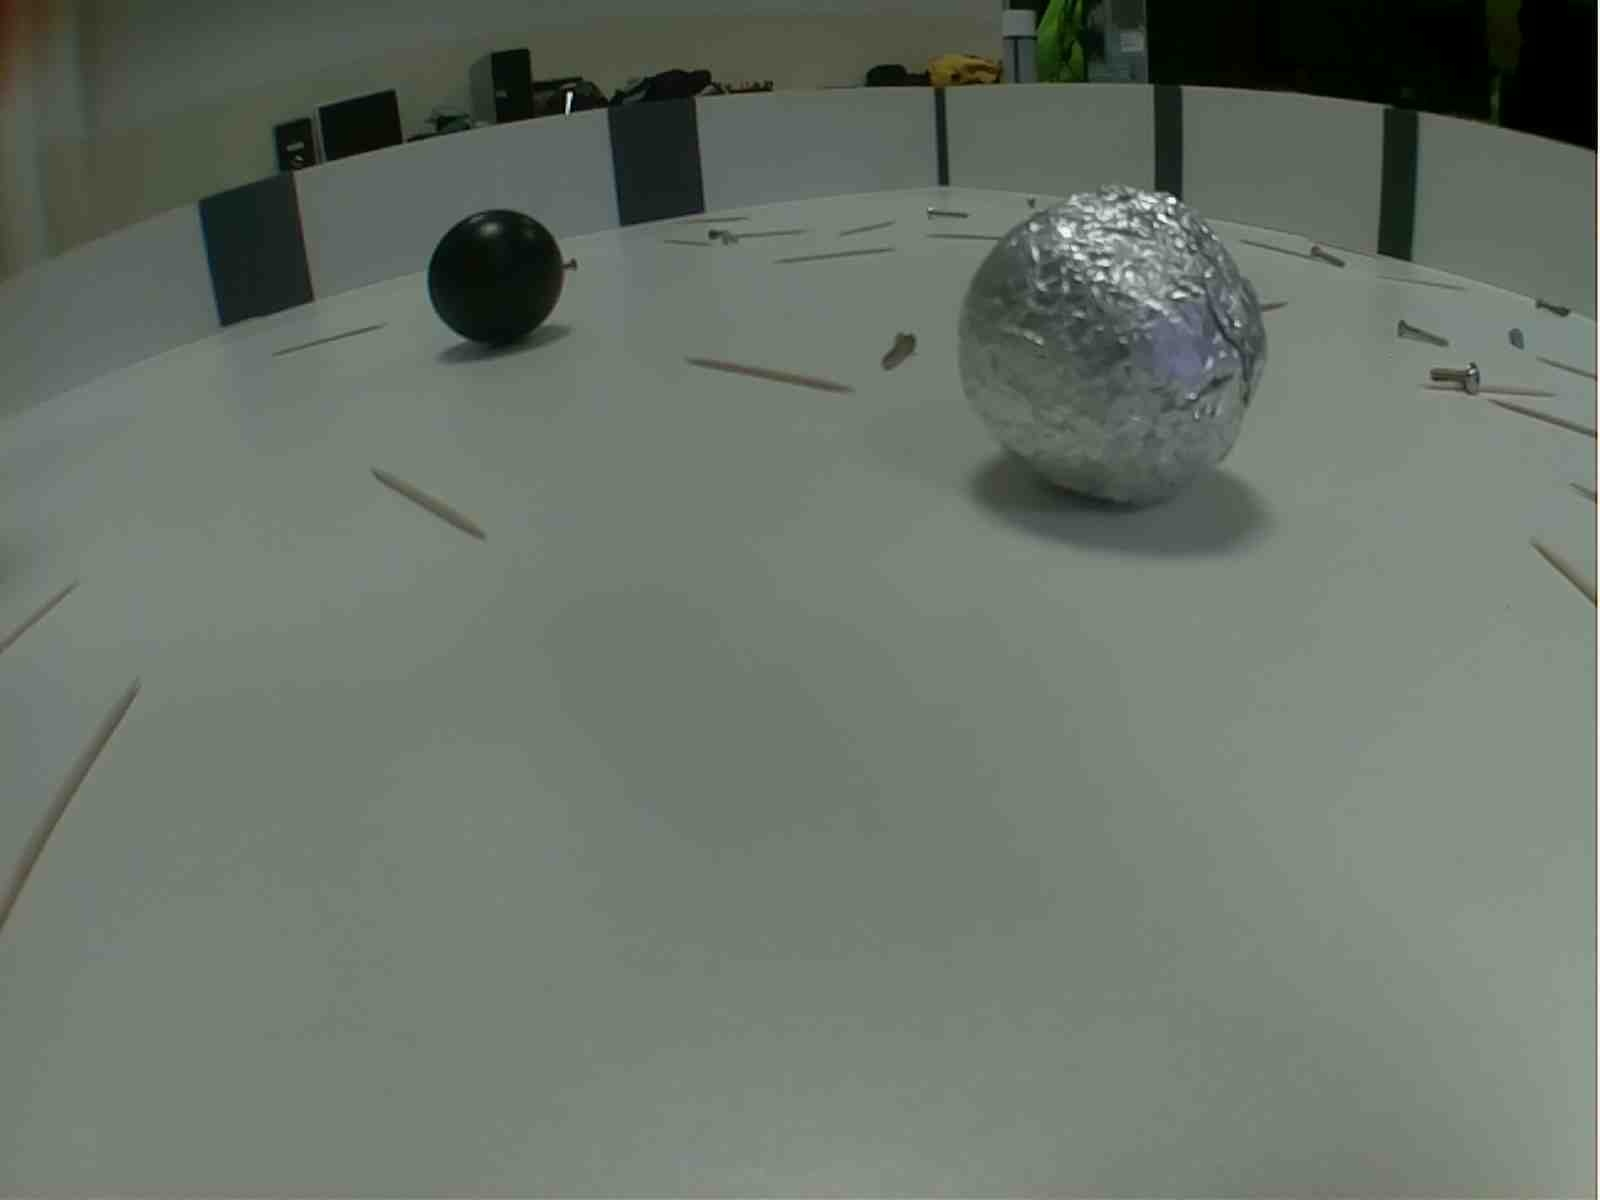bianca: (945, 187, 1270, 511)
nera: (425, 209, 567, 352)
